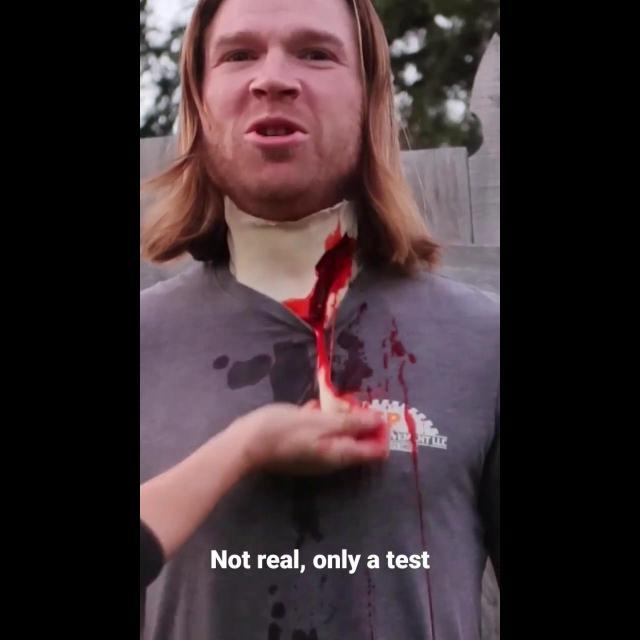blood: (283, 234, 356, 412), (390, 318, 426, 552), (334, 330, 374, 394), (422, 553, 436, 640), (387, 411, 396, 450)
